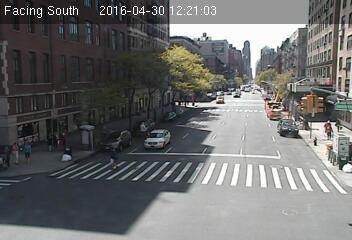neg: (89, 76, 106, 98), (150, 180, 166, 201), (300, 64, 313, 82), (140, 48, 153, 64), (261, 124, 273, 140), (124, 90, 136, 105), (201, 26, 213, 41), (265, 166, 276, 181), (196, 162, 207, 176), (129, 214, 140, 228), (28, 218, 39, 232), (242, 33, 253, 47), (191, 93, 201, 107), (186, 185, 195, 196)
pos: (104, 146, 123, 172), (18, 142, 37, 167), (6, 142, 24, 166), (323, 119, 338, 139), (57, 132, 71, 151), (138, 122, 151, 139)
